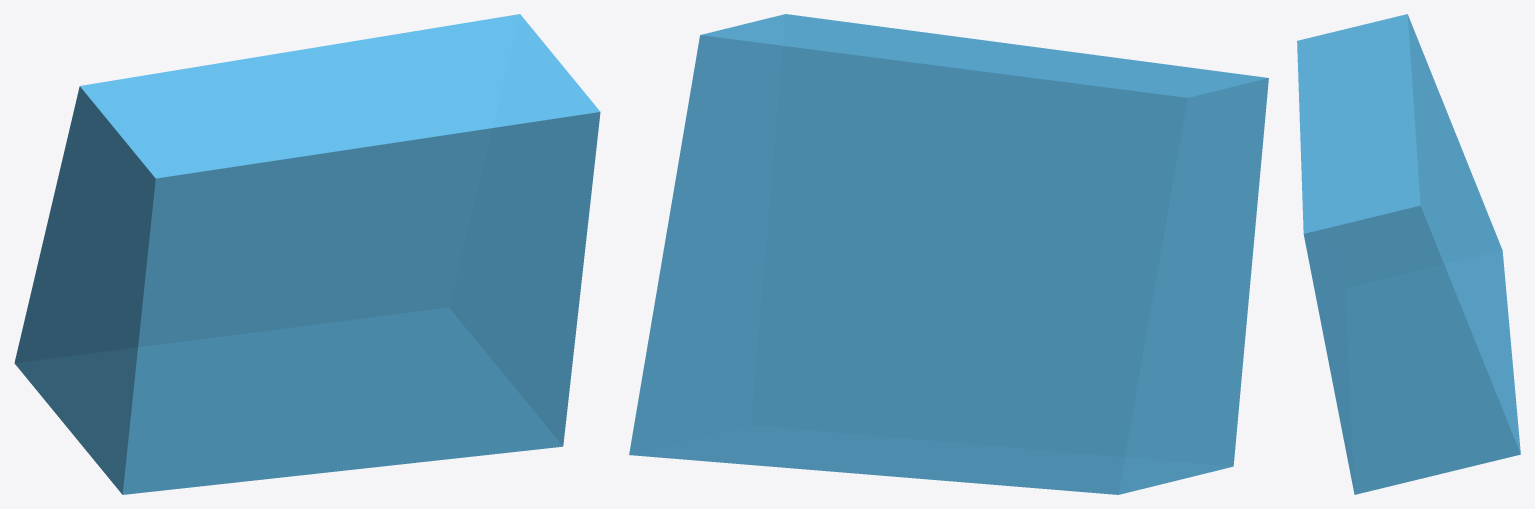
File: Event_421556567_HErechit_75.fbx
3 views of the same model, side by side, from view 1: azimuth 30°, elevation 25°; view 2: azimuth 150°, elevation 25°; view 3: azimuth 270°, elevation 25° (orthographic). The views are drawn at different scales.
Parts seen in each view (by area): view 1: Model; view 2: Model; view 3: Model.
Part boxes in pixels (<box>): Model: <box>14,14,600,494</box>; Model: <box>629,14,1268,494</box>; Model: <box>1297,14,1520,494</box>.
Bounding box in the file's own units: 0.6353 × 0.5986 × 0.3768.
